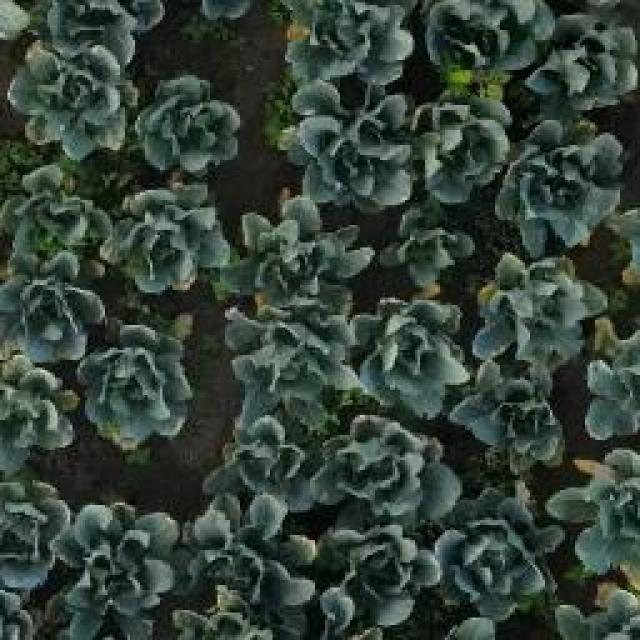cabbage: (504, 113, 610, 252), (240, 199, 368, 307), (196, 494, 314, 608), (128, 72, 240, 190), (482, 256, 601, 367), (63, 512, 169, 630), (292, 103, 412, 202), (21, 39, 123, 152), (118, 190, 231, 290), (442, 512, 546, 618), (337, 422, 449, 519), (358, 301, 465, 402), (216, 412, 333, 504), (422, 0, 554, 81), (243, 308, 350, 406), (322, 516, 437, 607), (88, 338, 190, 438), (560, 447, 640, 573), (418, 92, 508, 202), (12, 171, 112, 269), (471, 366, 569, 466), (295, 0, 403, 88), (0, 373, 81, 468), (15, 269, 97, 359), (382, 214, 466, 284)
